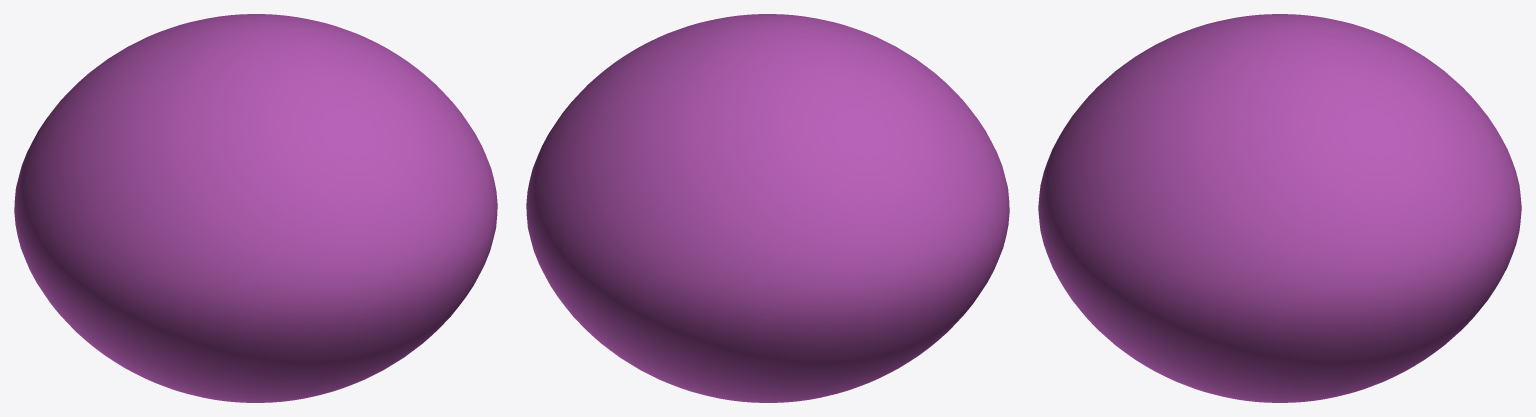
The model's file is CebollaMoreada.fbx.
3 views of the same model, side by side, from view 1: azimuth 30°, elevation 25°; view 2: azimuth 150°, elevation 25°; view 3: azimuth 270°, elevation 25° (orthographic).
Parts seen in each view (by area): view 1: CebollaMoreada; view 2: CebollaMoreada; view 3: CebollaMoreada.
Boxes of the visible parts, x1,y1,x2,y2 form: CebollaMoreada: (14, 14, 497, 402); CebollaMoreada: (526, 14, 1009, 402); CebollaMoreada: (1038, 14, 1521, 402).
Size of the model in its own units: 85.42 by 66.77 by 85.42.
